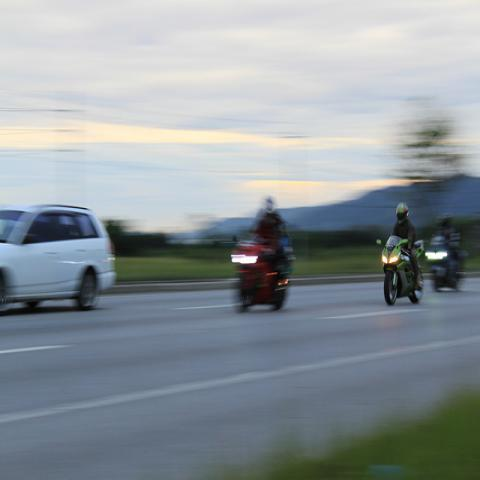car: (1, 203, 117, 312)
motorcycle: (229, 236, 294, 315), (376, 235, 424, 304), (426, 233, 470, 288)
